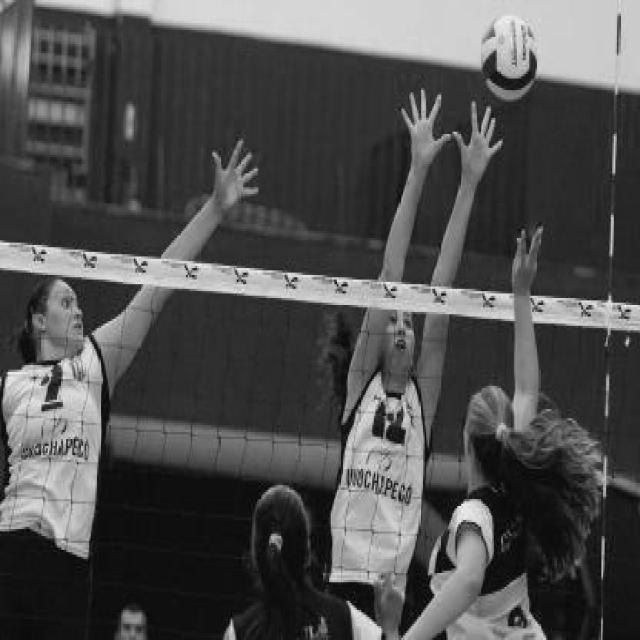volleyball: (479, 16, 536, 102)
